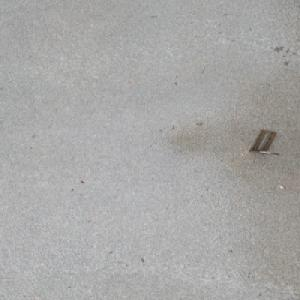MetalPart: (247, 129, 281, 155)
